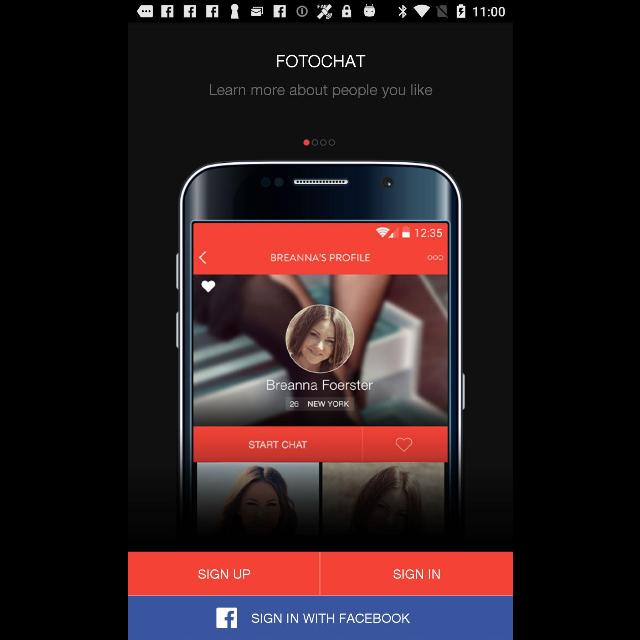image: (174, 160, 463, 540)
pageindicator: (301, 138, 335, 148)
text: (208, 84, 432, 100), (276, 56, 366, 68)
textbutton: (128, 596, 512, 640), (320, 552, 512, 594), (128, 552, 318, 594)
uppertaskbar: (128, 1, 512, 23)
